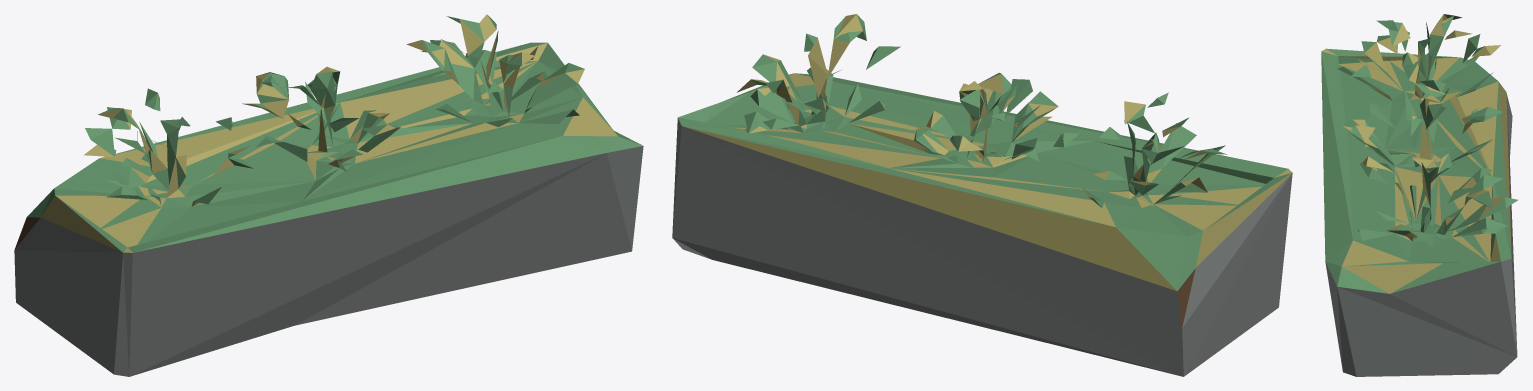
Rendered from street-planter-long-visible-low.glb.
The picture shows the model from 3 angles, left to right: view 1: azimuth 30°, elevation 25°; view 2: azimuth 150°, elevation 25°; view 3: azimuth 270°, elevation 25°; orthographic projection. The views are drawn at different scales.
Visible parts, largest first — view 1: street-planter-long; view 2: street-planter-long; view 3: street-planter-long.
Part boxes in pixels (left/top/right/bottom): street-planter-long: left=14, top=14, right=643, bottom=376; street-planter-long: left=672, top=14, right=1292, bottom=376; street-planter-long: left=1321, top=14, right=1517, bottom=376.
Size of the model in its own units: 1.4 by 0.55 by 0.54.
